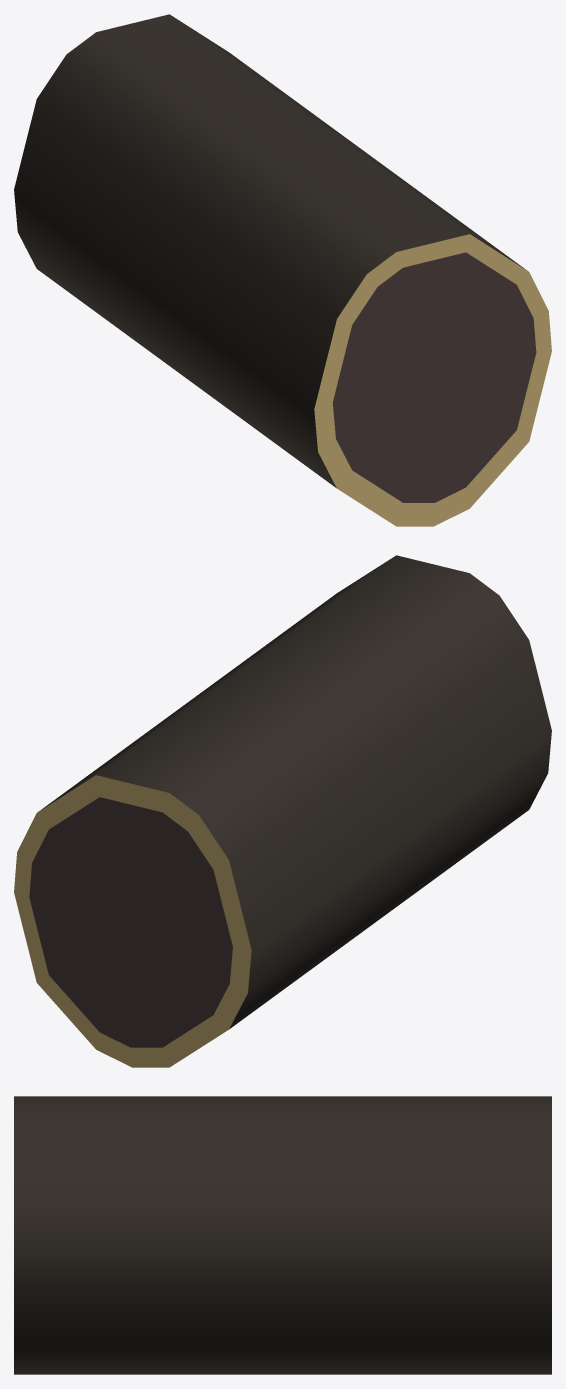
File: Log_Meters.fbx
The picture shows the model from 3 angles, top to bottom: view 1: azimuth 30°, elevation 25°; view 2: azimuth 150°, elevation 25°; view 3: azimuth 270°, elevation 25°; orthographic projection. The views are drawn at different scales.
Visible parts, largest first — view 1: polySurface7; view 2: polySurface7; view 3: polySurface7.
Boxes of the visible parts, x1=… form: polySurface7: x1=14, y1=14, x2=551, y2=526; polySurface7: x1=14, y1=555, x2=551, y2=1067; polySurface7: x1=14, y1=1096, x2=551, y2=1374.
Size of the model in its own units: 2 by 2.28 by 4.38.
